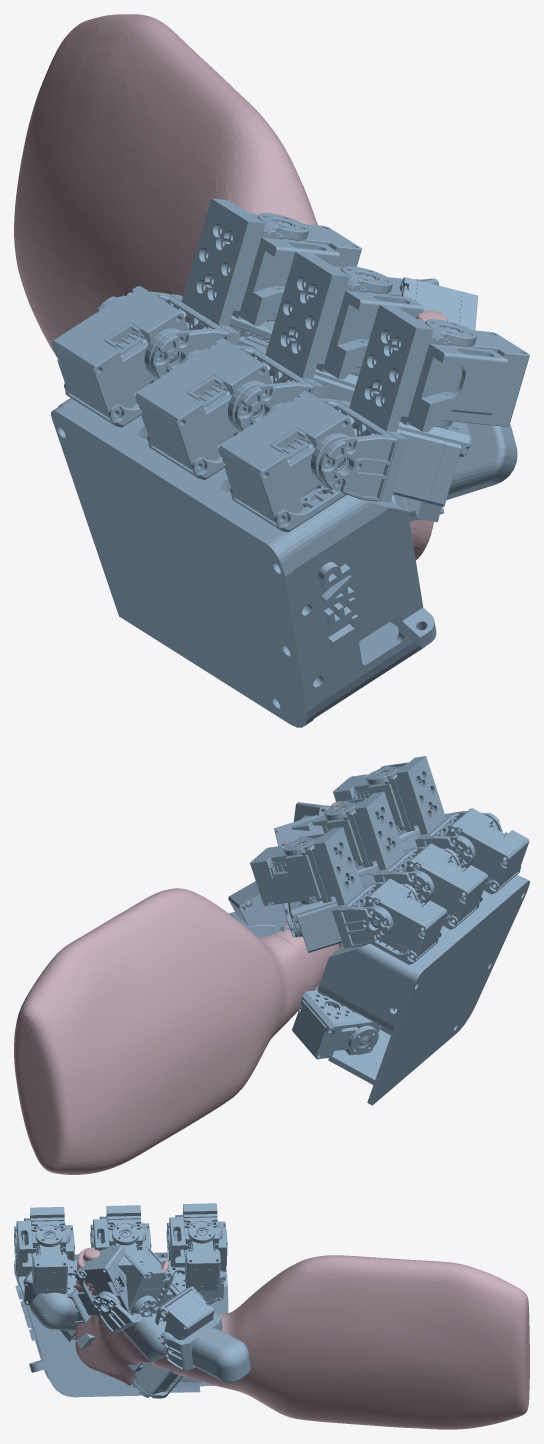
The picture shows the model from 3 angles, top to bottom: view 1: azimuth 30°, elevation 25°; view 2: azimuth 150°, elevation 25°; view 3: azimuth 270°, elevation 25°; orthographic projection. The views are drawn at different scales.
Visible parts, largest first — view 1: world, obj_mesh_grasp_0.obj; view 2: world, obj_mesh_grasp_0.obj; view 3: obj_mesh_grasp_0.obj, world.
Boxes of the visible parts, x1=… form: world: x1=51, y1=198, x2=529, y2=727; obj_mesh_grasp_0.obj: x1=14, y1=14, x2=447, y2=559; world: x1=228, y1=756, x2=529, y2=1105; obj_mesh_grasp_0.obj: x1=14, y1=801, x2=342, y2=1174; obj_mesh_grasp_0.obj: x1=75, y1=1247, x2=529, y2=1429; world: x1=14, y1=1203, x2=250, y2=1398.
Size of the model in its own units: 0.1366 by 0.1331 by 0.3063.
